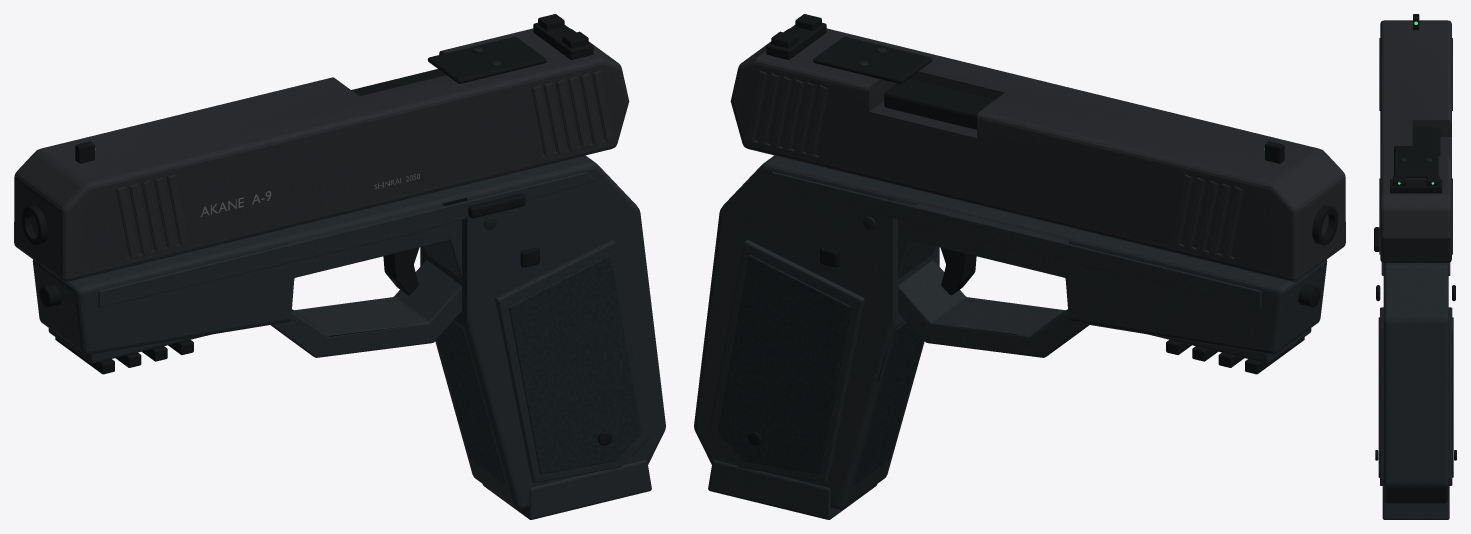
File: akane_geometry.glb
3 views of the same model, side by side, from view 1: azimuth 30°, elevation 25°; view 2: azimuth 150°, elevation 25°; view 3: azimuth 270°, elevation 25° (orthographic). The views are drawn at different scales.
Parts seen in each view (by area): view 1: Receiver, Slide, Magazine, Barrel, Trigger; view 2: Receiver, Slide, Barrel, Magazine, Trigger; view 3: Receiver, Slide, Magazine, Barrel.
Boxes of the visible parts, x1,y1,x2,y2 form: Receiver: [32, 155, 665, 509]; Slide: [14, 14, 629, 281]; Magazine: [482, 460, 651, 519]; Barrel: [21, 69, 446, 307]; Trigger: [383, 247, 419, 295]; Receiver: [694, 155, 1327, 509]; Slide: [730, 14, 1345, 281]; Barrel: [884, 78, 1338, 307]; Magazine: [708, 460, 877, 519]; Trigger: [940, 247, 976, 295]; Receiver: [1374, 227, 1456, 503]; Slide: [1379, 14, 1452, 262]; Magazine: [1382, 486, 1449, 519]; Barrel: [1412, 127, 1440, 156].
Size of the model in its own units: 0.2333 by 0.168 by 0.0394.
7 materials, 6 textured.
